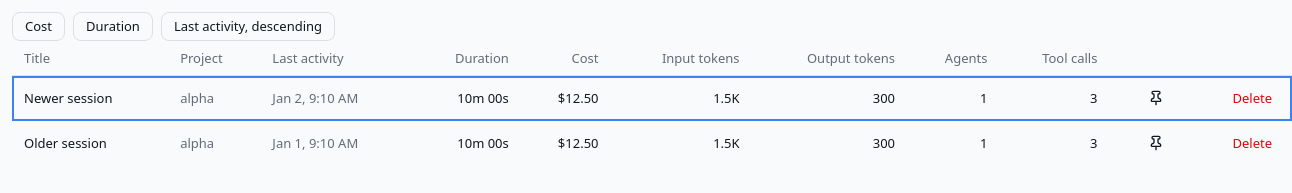
Pinning grouping › moves the row into a pinned group above the unpinned rows (E3-S4-AC1)
Expected: the text "Pinned" is not shown
Click the button named "Pin Older session".
click(1156, 143)  # box [1142, 129, 1170, 157]
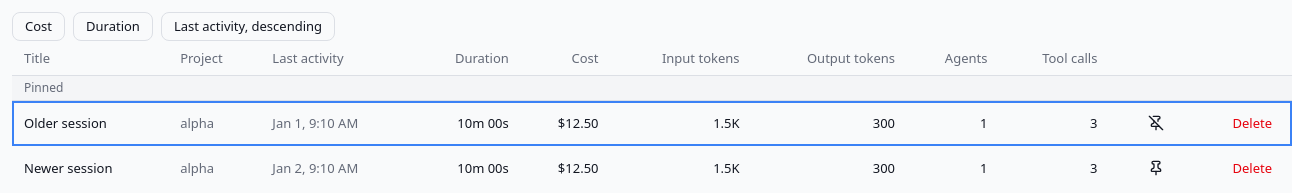
Expected: the column heading "Pinned" is shown, [12, 76, 1291, 101]
